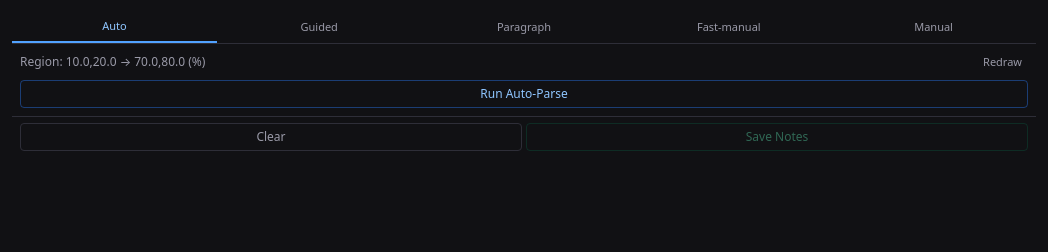
A2d Notes Auto and inherited-save operation authority › releases a current inherited-save failure and admits a direct Save Notes retry
The width and height of the screenshot is (1048, 252).
Later steps or results of the test are not shown.
Click the button "Run Auto-Parse" at (524, 94), box [20, 80, 1028, 108]
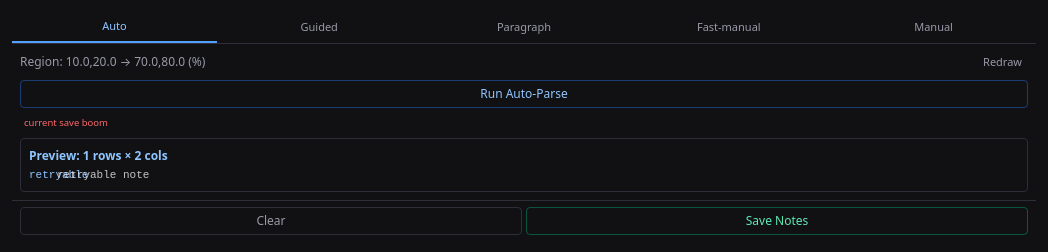
Expected: the text "current save boom" is shown, [24, 116, 108, 129]
Expected: the button "Save Notes" is enabled, [526, 207, 1028, 235]
